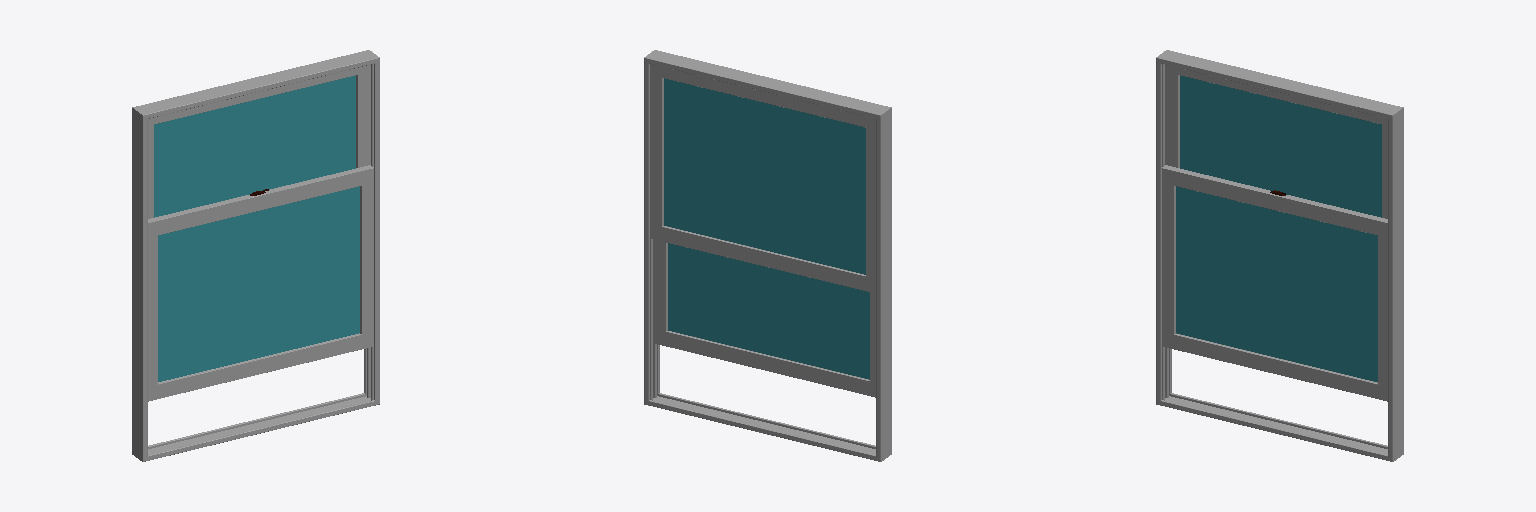
Rendered from basic_window.obj.
3 renders of one model, left to right at view 1: azimuth 30°, elevation 25°; view 2: azimuth 150°, elevation 25°; view 3: azimuth 330°, elevation 25°, orthographic.
Visible parts, largest first — view 1: FrontWindowBottom1_FrontWindowSash, FrontWindowTop1_FrontWindowSash, FrontWindowFrame1_FrontWindowFrame; view 2: FrontWindowTop1_FrontWindowSash, FrontWindowBottom1_FrontWindowSash, FrontWindowFrame1_FrontWindowFrame; view 3: FrontWindowBottom1_FrontWindowSash, FrontWindowTop1_FrontWindowSash, FrontWindowFrame1_FrontWindowFrame.
Part boxes in pixels (left/top/right/bottom): FrontWindowBottom1_FrontWindowSash: left=148, top=165, right=373, bottom=401; FrontWindowTop1_FrontWindowSash: left=148, top=65, right=370, bottom=218; FrontWindowFrame1_FrontWindowFrame: left=132, top=50, right=379, bottom=461; FrontWindowTop1_FrontWindowSash: left=650, top=64, right=875, bottom=293; FrontWindowBottom1_FrontWindowSash: left=653, top=239, right=875, bottom=397; FrontWindowFrame1_FrontWindowFrame: left=644, top=50, right=891, bottom=461; FrontWindowBottom1_FrontWindowSash: left=1162, top=165, right=1387, bottom=401; FrontWindowTop1_FrontWindowSash: left=1165, top=65, right=1387, bottom=218; FrontWindowFrame1_FrontWindowFrame: left=1156, top=50, right=1403, bottom=461.
Bounding box in the file's own units: 10 × 14 × 0.8.